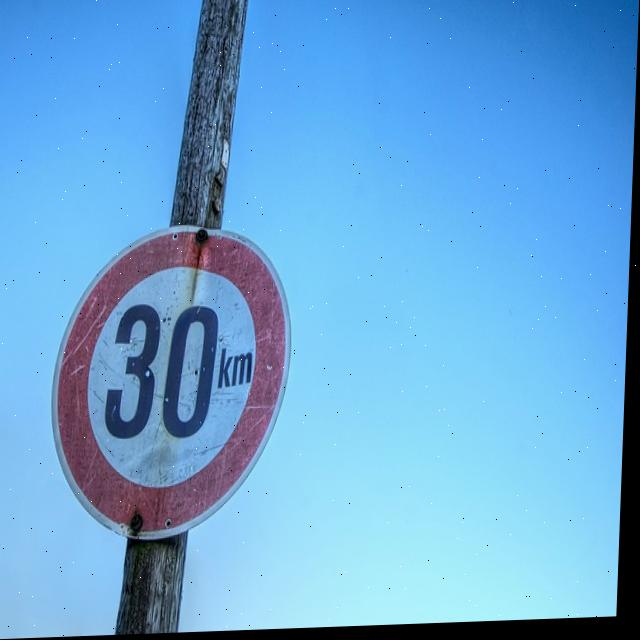Speed limit 30: (40, 222, 315, 554)
